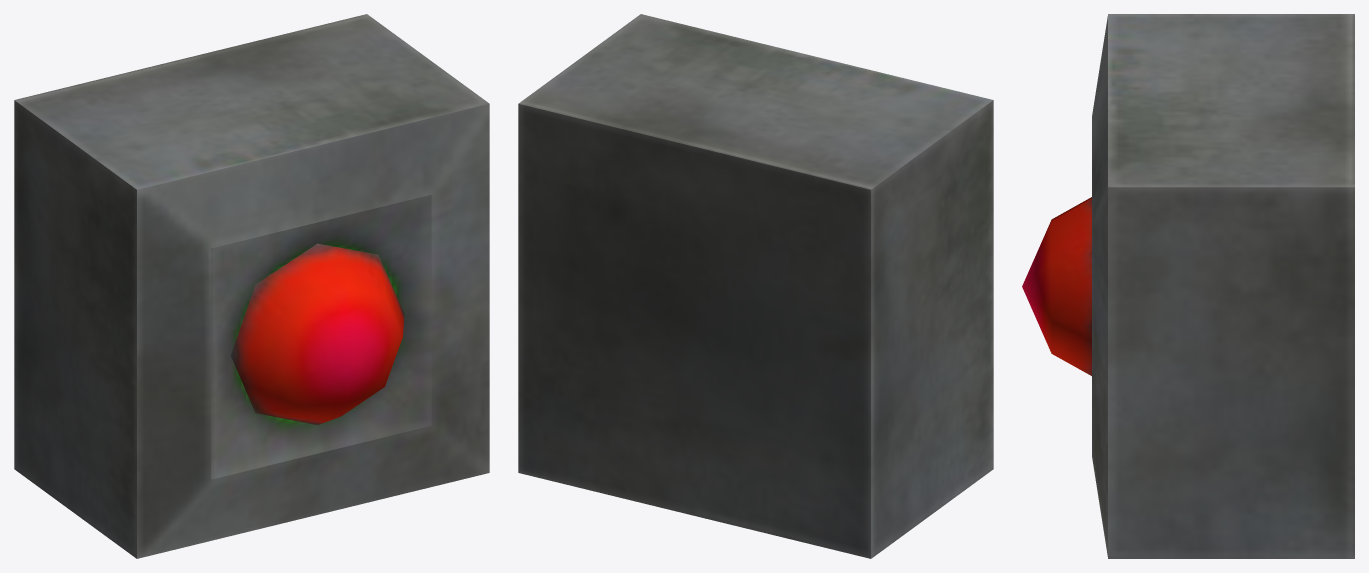
The model's file is hardware4.obj.
3 renders of one model, left to right at view 1: azimuth 30°, elevation 25°; view 2: azimuth 150°, elevation 25°; view 3: azimuth 270°, elevation 25°, orthographic.
Parts seen in each view (by area): view 1: Object17; view 2: Object17; view 3: Object17.
Part boxes in pixels (x1,y1,x2,y2): Object17: [14, 14, 489, 558]; Object17: [518, 14, 993, 558]; Object17: [1022, 14, 1354, 558].
Bounding box in the file's own units: 20.04 × 20.04 × 16.27.
1 material, 1 textured.
